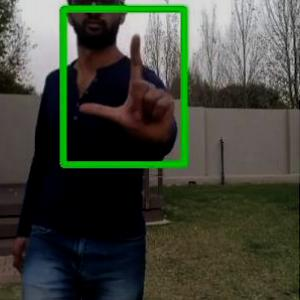land_hand: (75, 24, 179, 145)
